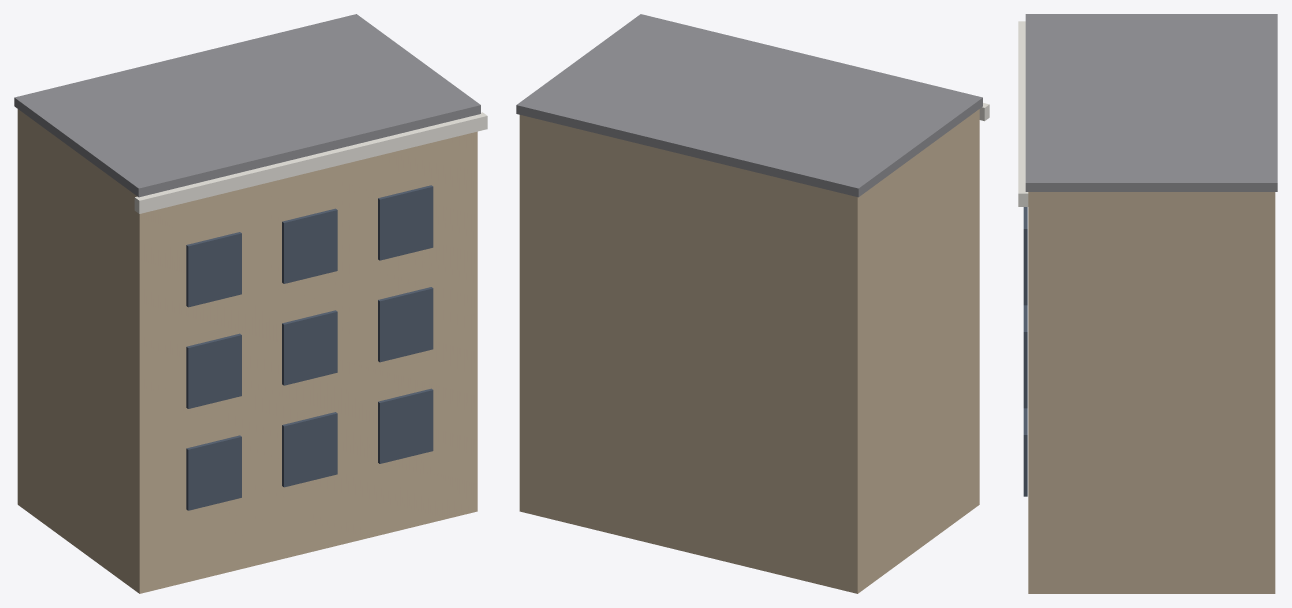
Rendered from Facade_Mid_A.glb.
3 renders of one model, left to right at view 1: azimuth 30°, elevation 25°; view 2: azimuth 150°, elevation 25°; view 3: azimuth 270°, elevation 25°, orthographic.
Parts seen in each view (by area): view 1: Facade_Mid_A; view 2: Facade_Mid_A; view 3: Facade_Mid_A.
Part boxes in pixels (bbox=[...]): Facade_Mid_A: bbox=[14, 14, 487, 593]; Facade_Mid_A: bbox=[516, 14, 989, 593]; Facade_Mid_A: bbox=[1018, 14, 1277, 593].
Bounding box in the file's own units: 8.24 × 9.2 × 5.25.
